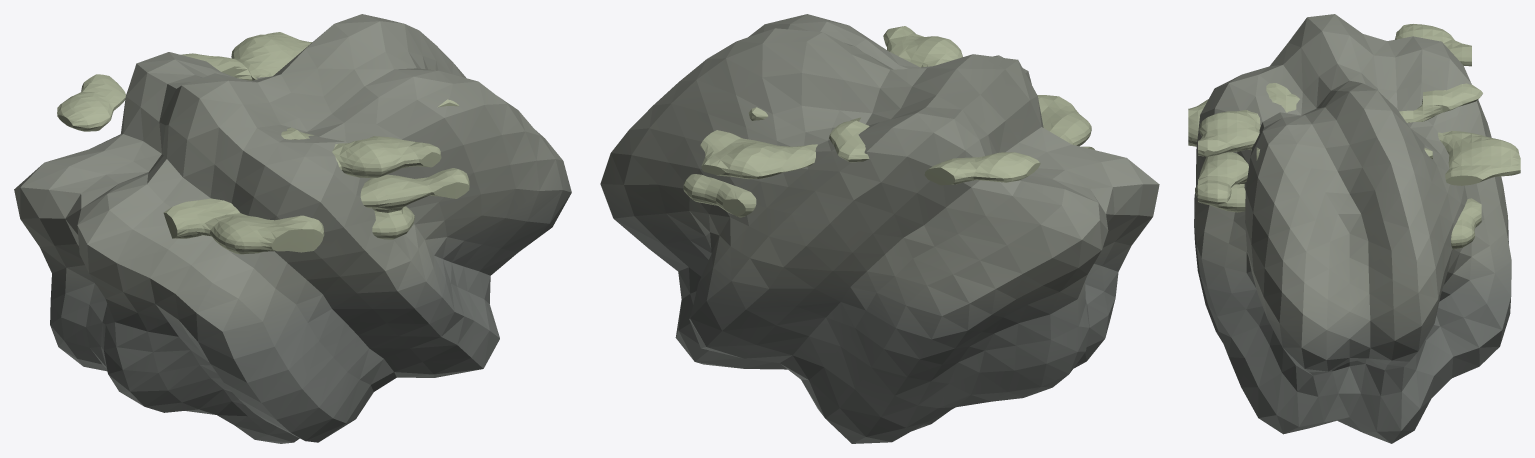
File: taiga_lichen_rock.glb
The picture shows the model from 3 angles, left to right: view 1: azimuth 30°, elevation 25°; view 2: azimuth 150°, elevation 25°; view 3: azimuth 270°, elevation 25°; orthographic projection. The views are drawn at different scales.
Visible parts, largest first — view 1: taiga_lichen_rock; view 2: taiga_lichen_rock; view 3: taiga_lichen_rock.
Part boxes in pixels (left/top/right/bottom): taiga_lichen_rock: left=14, top=14, right=571, bottom=443; taiga_lichen_rock: left=600, top=14, right=1159, bottom=443; taiga_lichen_rock: left=1188, top=14, right=1520, bottom=443.
Bounding box in the file's own units: 2.76 × 2.06 × 1.74.
